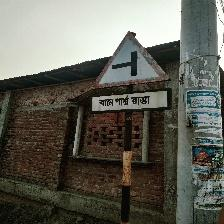Side-road-left: (89, 31, 172, 114)
